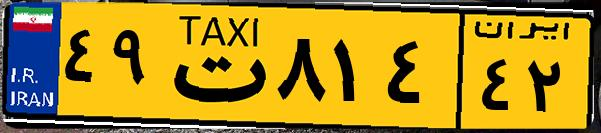1: (330, 28, 385, 110)
2: (525, 38, 570, 115)
4: (385, 28, 445, 110), (57, 26, 110, 100), (475, 38, 525, 113)
8: (270, 28, 330, 110)
9: (110, 28, 158, 98)
ت: (158, 12, 270, 120)
